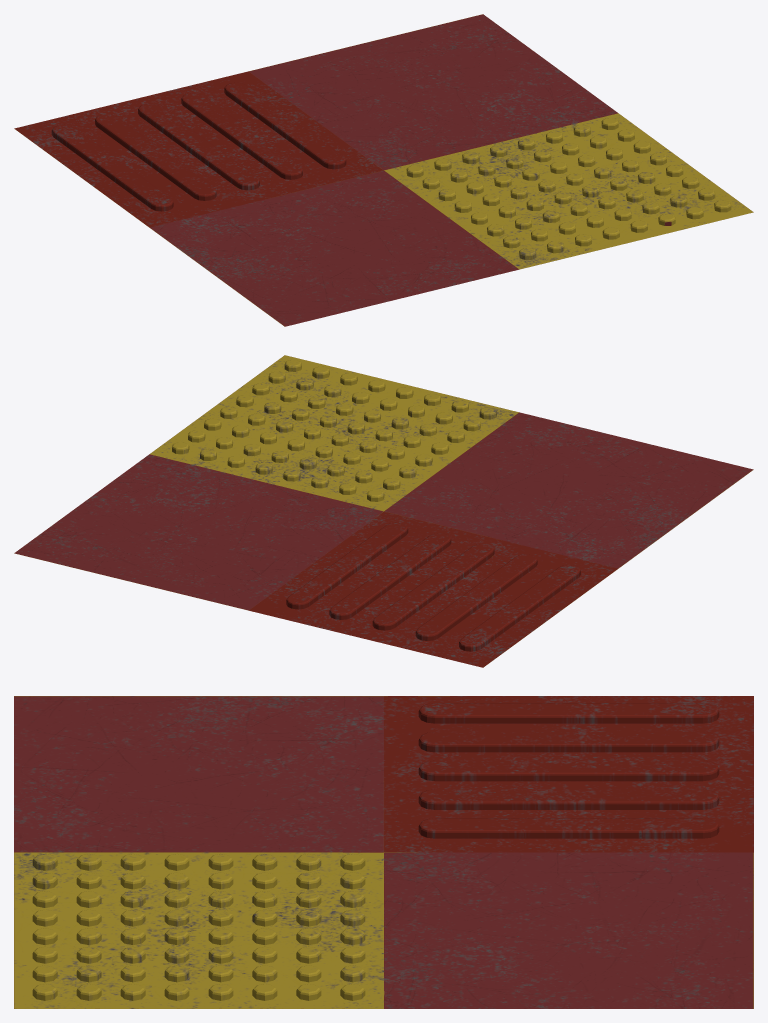
File: Piso Tátil Low.fbx
3 renders of one model, top to bottom at view 1: azimuth 30°, elevation 25°; view 2: azimuth 150°, elevation 25°; view 3: azimuth 270°, elevation 25°, orthographic. The views are drawn at different scales.
Visible parts, largest first — view 1: Plane.031; view 2: Plane.031; view 3: Plane.031.
Part boxes in pixels (<box>): Plane.031: <box>14,14,753,326</box>; Plane.031: <box>14,355,753,667</box>; Plane.031: <box>14,696,753,1008</box>.
Size of the model in its own units: 200 by 2.28 by 200.
